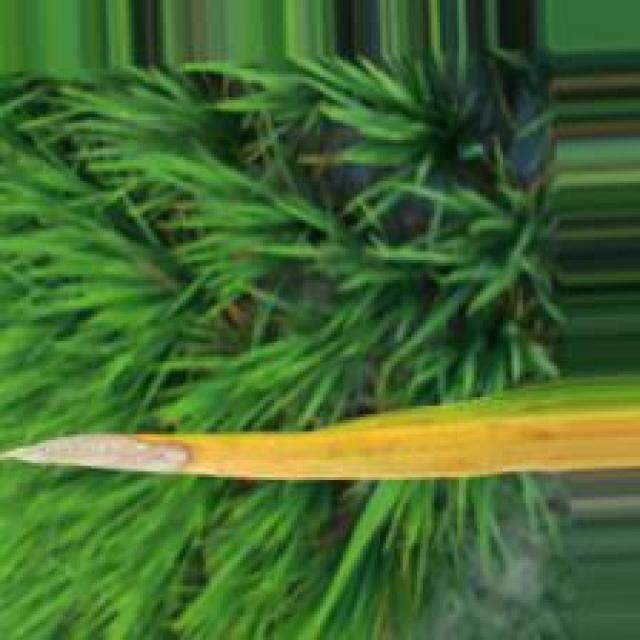Rice False Smut: (0, 434, 196, 471)
